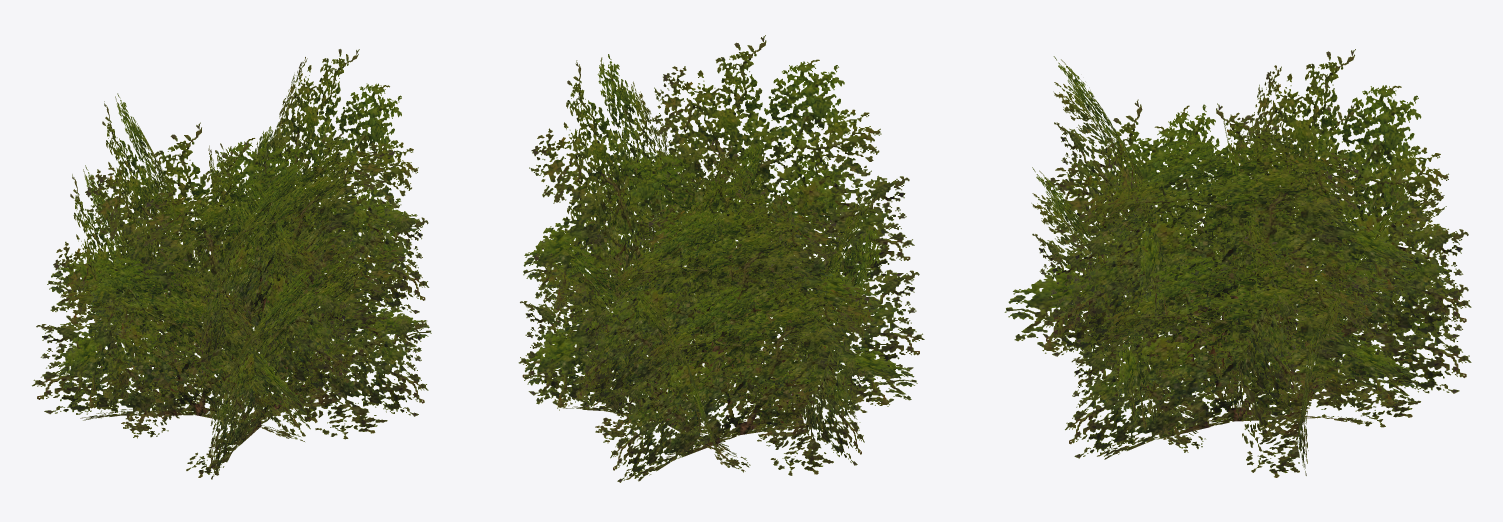
The model's file is tre_dry04.glb.
3 views of the same model, side by side, from view 1: azimuth 30°, elevation 25°; view 2: azimuth 150°, elevation 25°; view 3: azimuth 270°, elevation 25° (orthographic). The views are drawn at different scales.
Visible parts, largest first — view 1: tre_dry04; view 2: tre_dry04; view 3: tre_dry04.
Boxes of the visible parts, bbox=[...] form: tre_dry04: bbox=[32, 49, 431, 479]; tre_dry04: bbox=[518, 35, 924, 482]; tre_dry04: bbox=[1004, 49, 1471, 477].
Bounding box in the file's own units: 12.08 × 10.16 × 12.54.
Materials: 1 (1 with a texture image).
